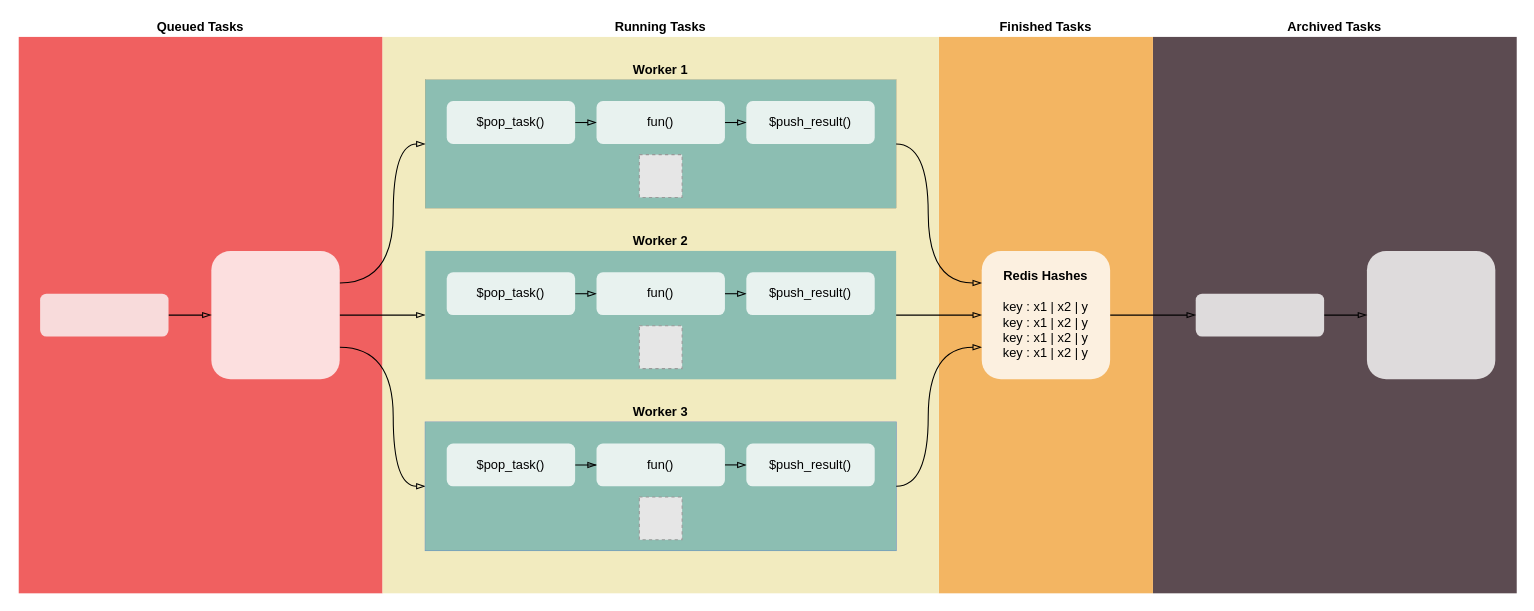
This 1534x611 diagram has some shape labels left out. Grey dashed boxes stand in for pictures. The shapes that lost their labels are listed below. From the top down, each one's centre as x and y in pixels, then its label:
point (104, 314): $push_task()
point (275, 314): Redis Hashes key : x1 | x2 key : x1 | x2 key : x1 | x2 key : x1 | x2
point (1259, 314): $sync_data()
point (1430, 314): List key : x1 | x2 | y key : x1 | x2 | y key : x1 | x2 | y key : x1 | x2 | y
